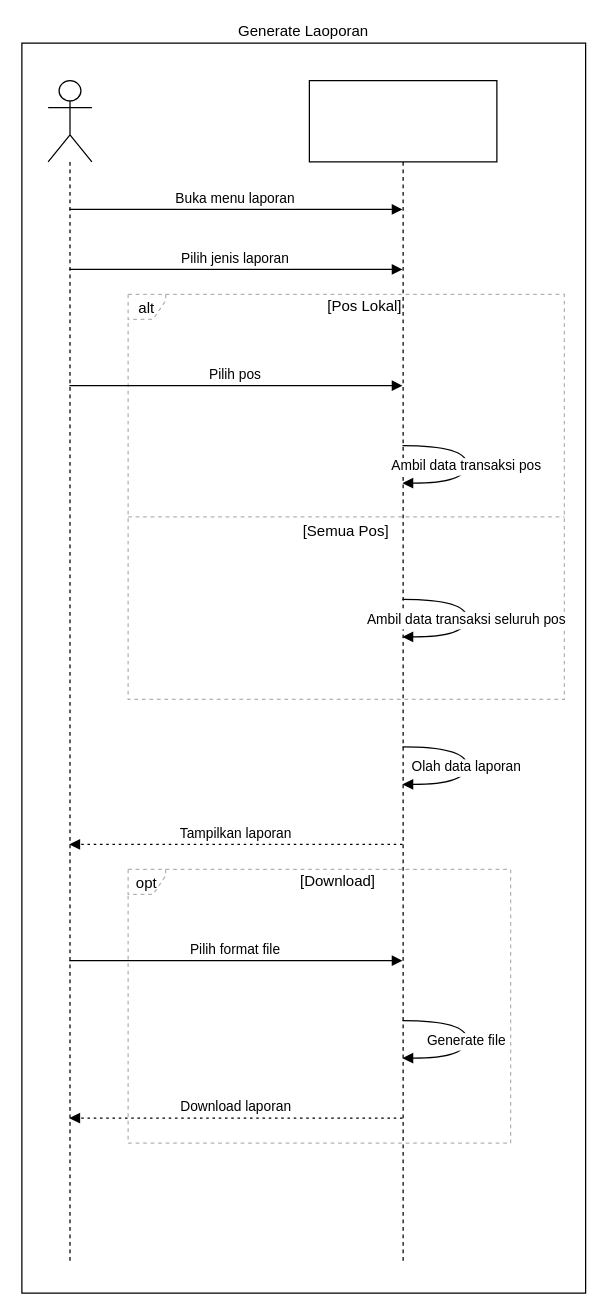
The diagram is 608 pixels wide and 1315 high, and some of its shapes have lost their labels. The box of each missing label's shape, as (x1, y1, x2, y2) in pixels:
Admin: (47, 79, 92, 1262)
Sistem: (308, 79, 497, 1262)
